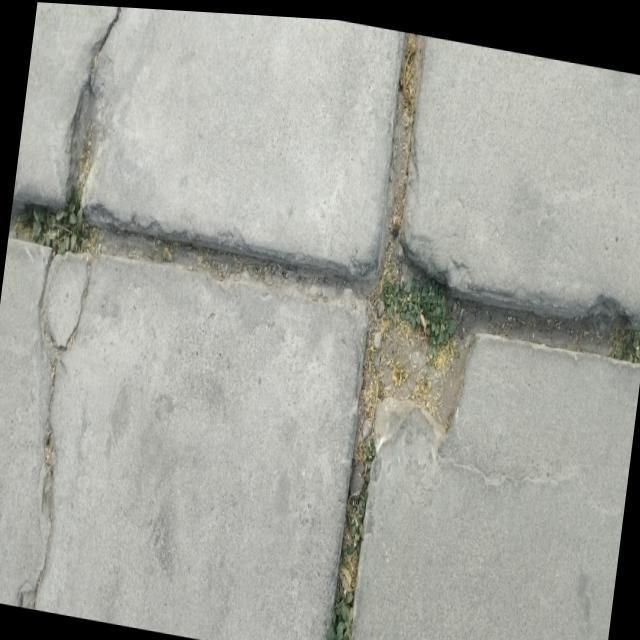hole: (352, 258, 490, 441)
